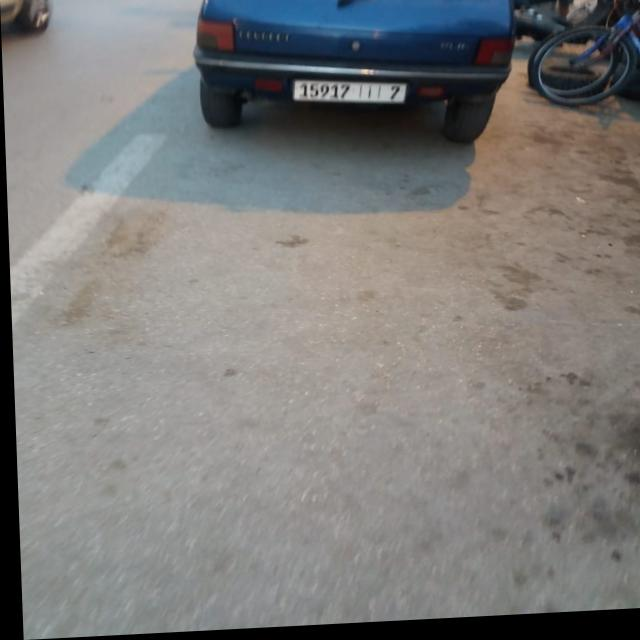License-Plate: (292, 83, 406, 108)
